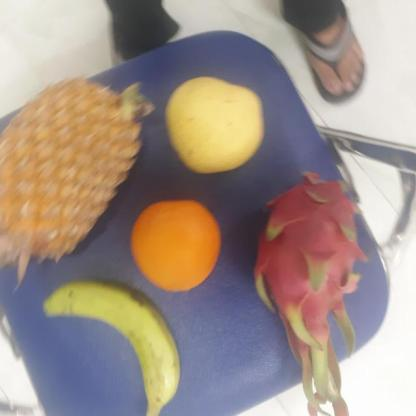banana: (43, 277, 181, 416)
pitaya: (250, 175, 372, 356)
